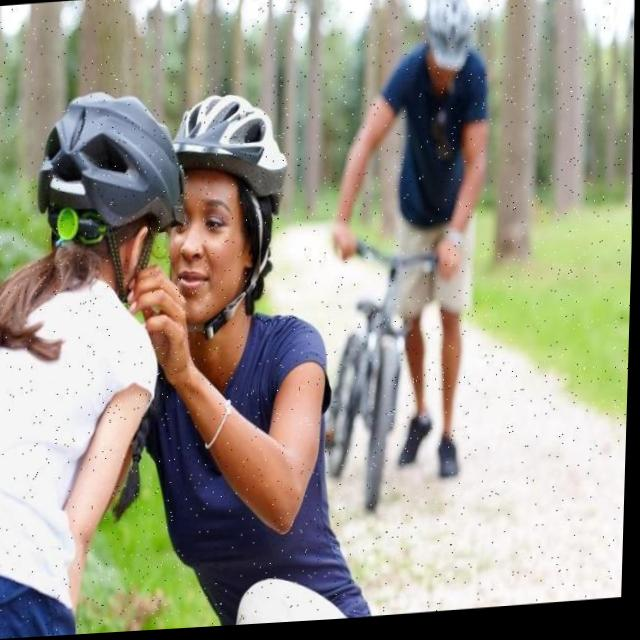helmet: (30, 79, 192, 318), (164, 91, 298, 346)
